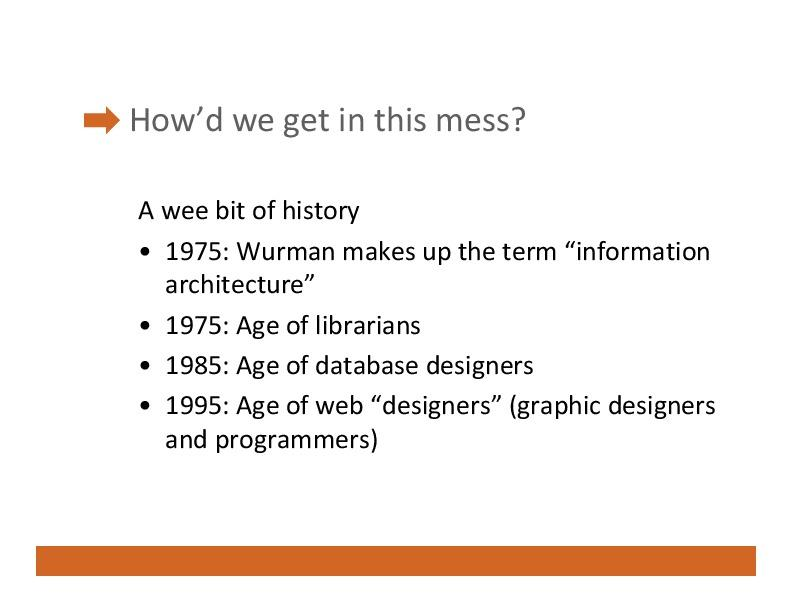paragraph: (130, 191, 764, 471)
title: (128, 96, 531, 143)
